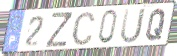0: (97, 9, 118, 46)
2: (24, 15, 45, 48)
C: (70, 10, 97, 47)
Q: (144, 7, 167, 42)
U: (119, 8, 147, 45)
Z: (45, 11, 73, 49)
